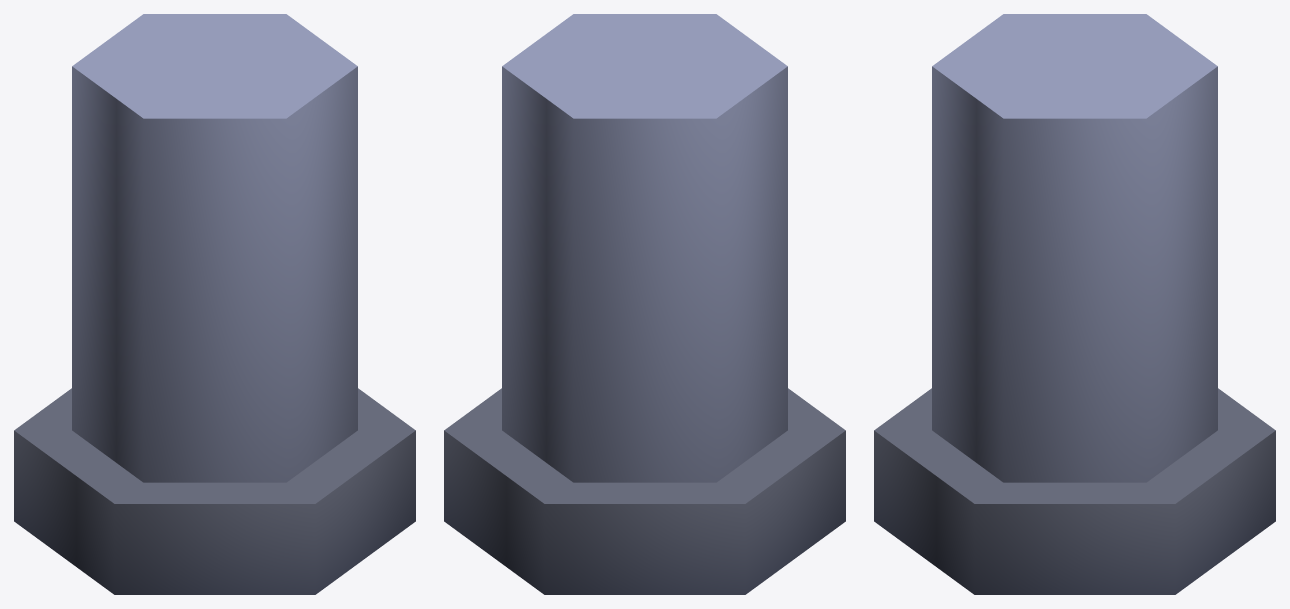
Rendered from pipe-end.glb.
The picture shows the model from 3 angles, left to right: view 1: azimuth 30°, elevation 25°; view 2: azimuth 150°, elevation 25°; view 3: azimuth 270°, elevation 25°; orthographic projection.
Parts seen in each view (by area): view 1: pipe-end; view 2: pipe-end; view 3: pipe-end.
Part boxes in pixels (box(x1,y1,x2,y2)): pipe-end: box(14, 14, 415, 594); pipe-end: box(444, 14, 845, 594); pipe-end: box(874, 14, 1275, 594).
Bounding box in the file's own units: 0.3464 × 0.5 × 0.4.
